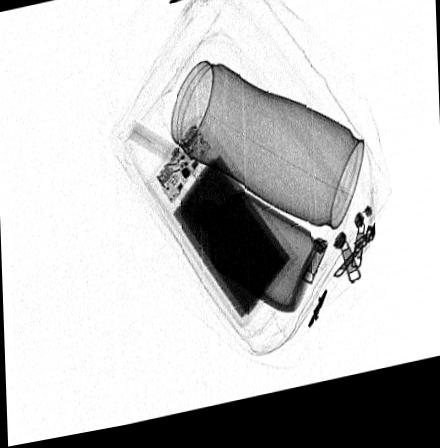Powerbank: (150, 122, 299, 337)
